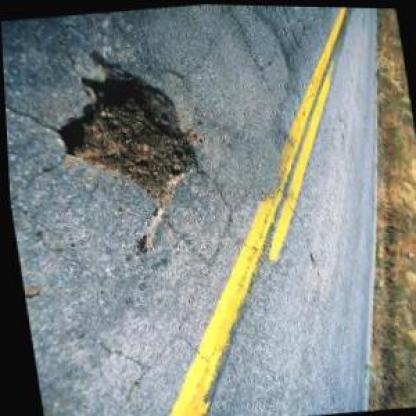pothole: (38, 39, 206, 219)
